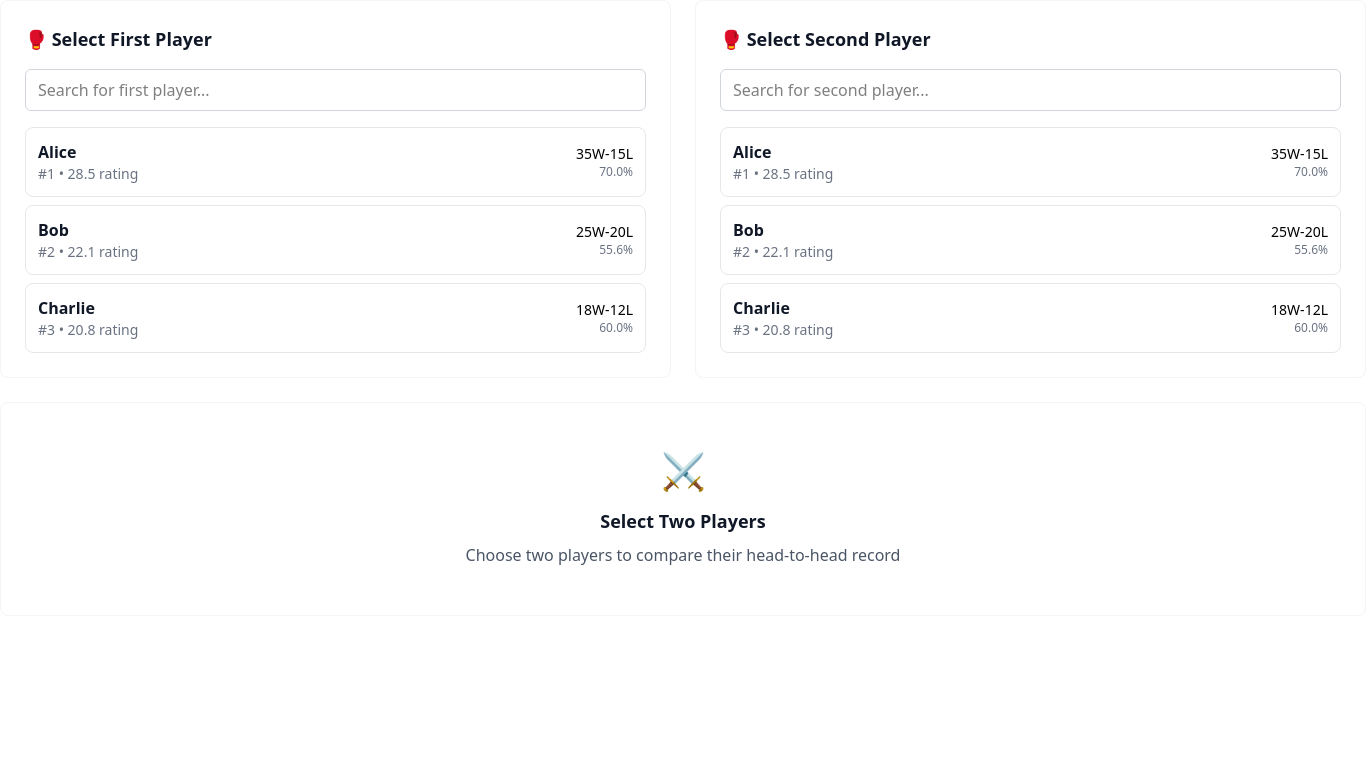
Test: HeadToHeadComparison › excludes selected player from opposite list
Note: Select Alice in first list
Click the text "Alice" below "🥊 Select First Player": (57, 152) left=38, top=141, right=76, bottom=163
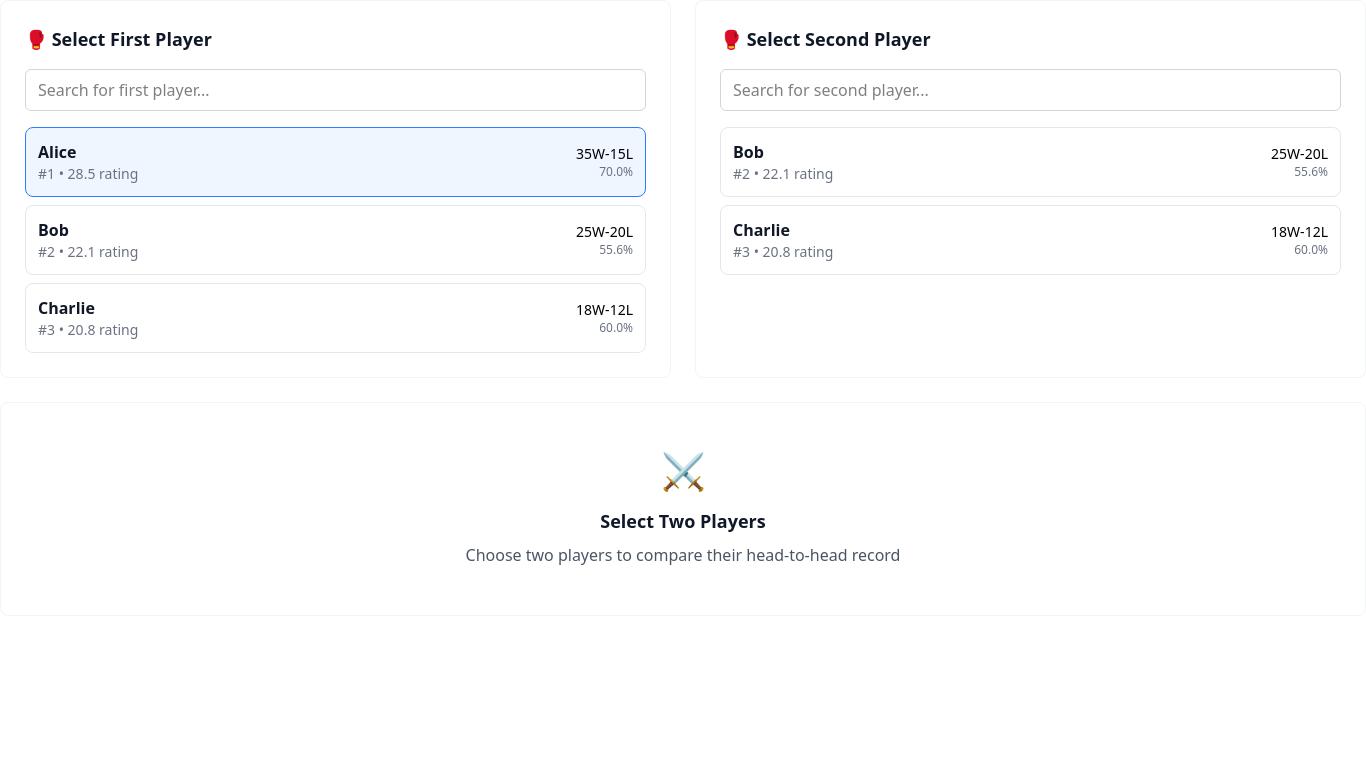
Check: the text "Alice" is shown once, box left=38, top=141, right=76, bottom=163
Check: the text "Bob" is shown 2 times, box left=38, top=219, right=69, bottom=241; left=733, top=141, right=764, bottom=163
Check: the text "Charlie" is shown 2 times, box left=38, top=297, right=95, bottom=319; left=733, top=219, right=790, bottom=241
